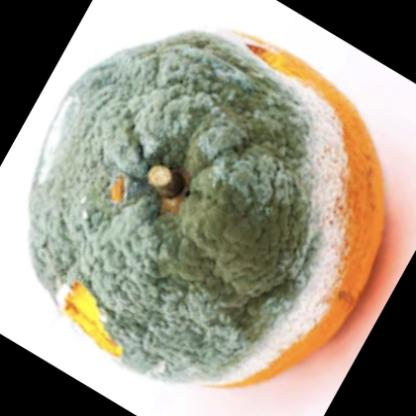rotten: (29, 31, 386, 386)
